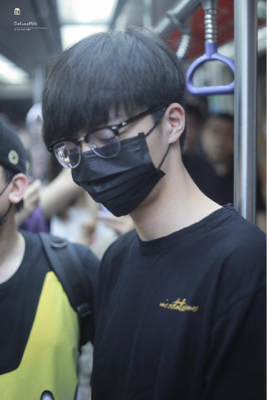with_mask: (60, 107, 170, 218)
